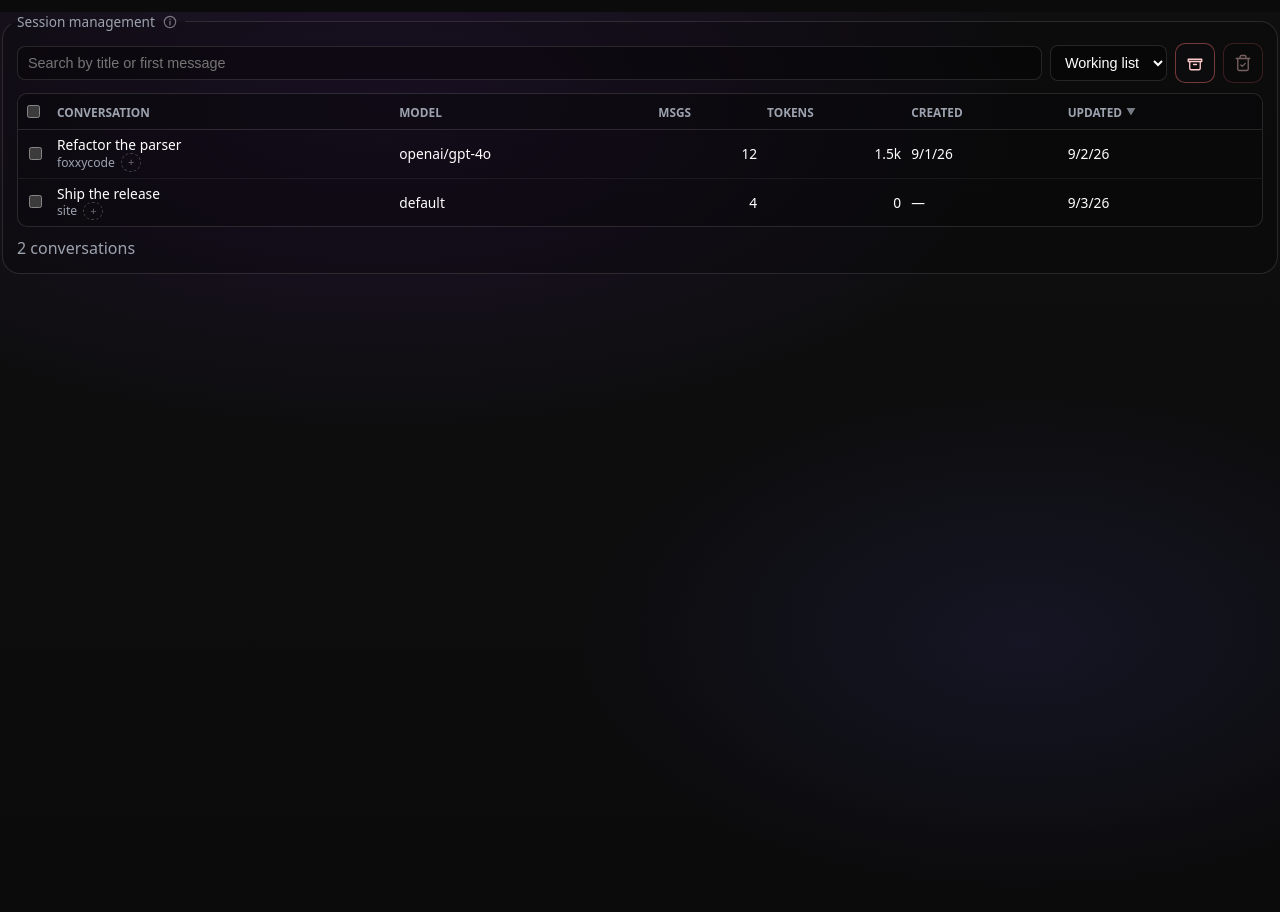
Test: a client-only draft protects no row
Expected: the row with test id "sessions-manager-row-sess_one" is shown, [18,130,1262,178]
Click the checkbox with test id "sessions-manager-select-all" at (34, 112), box [27,105,40,118]
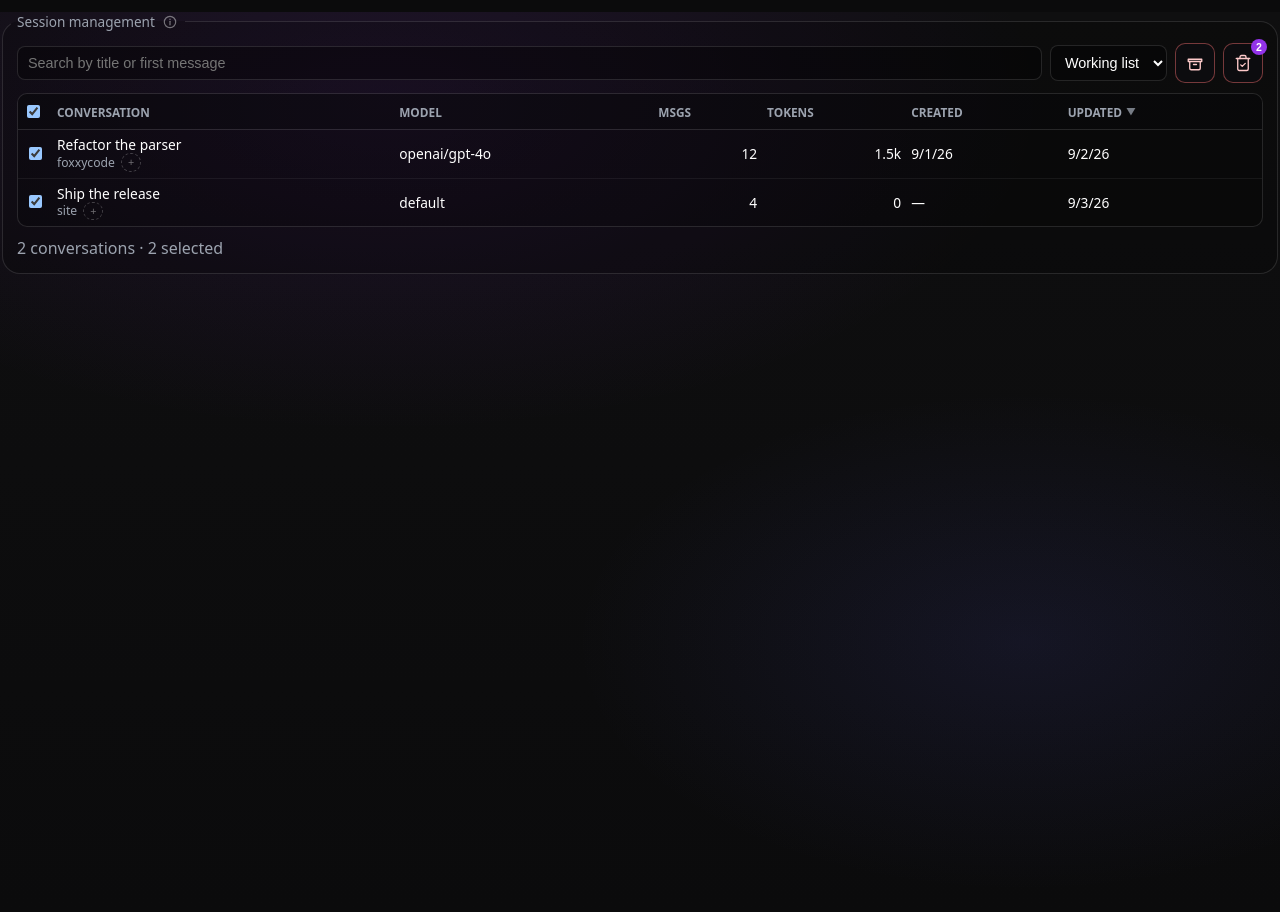
Now the text with test id "sessions-manager-selected-count" reads "2", box [1256,41,1262,53]
